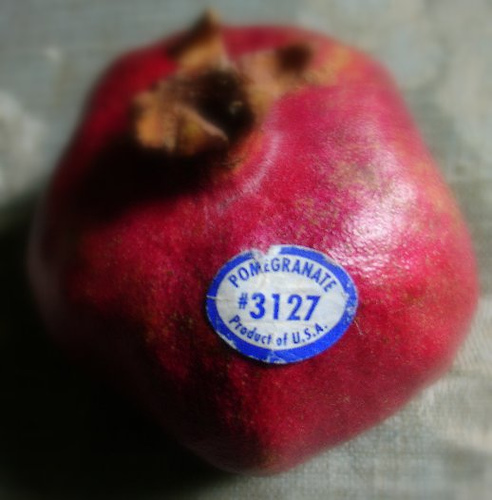pomogranate: (26, 11, 479, 478)
